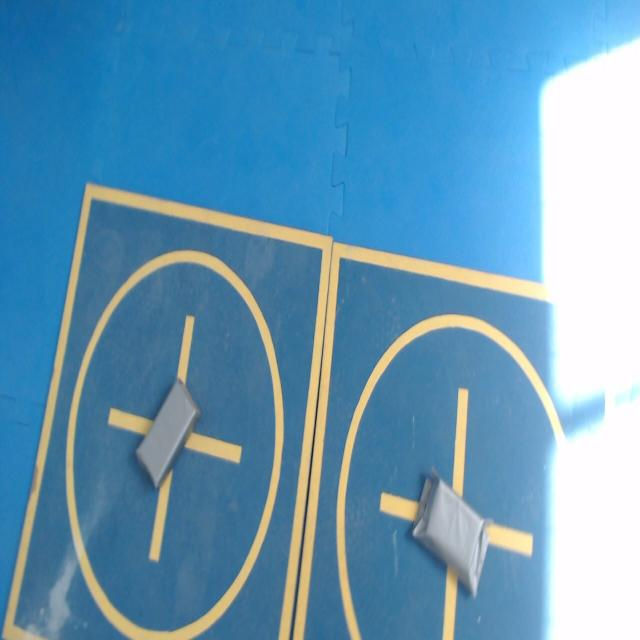direita: (136, 379, 200, 487)
esquerda: (412, 474, 488, 596)
